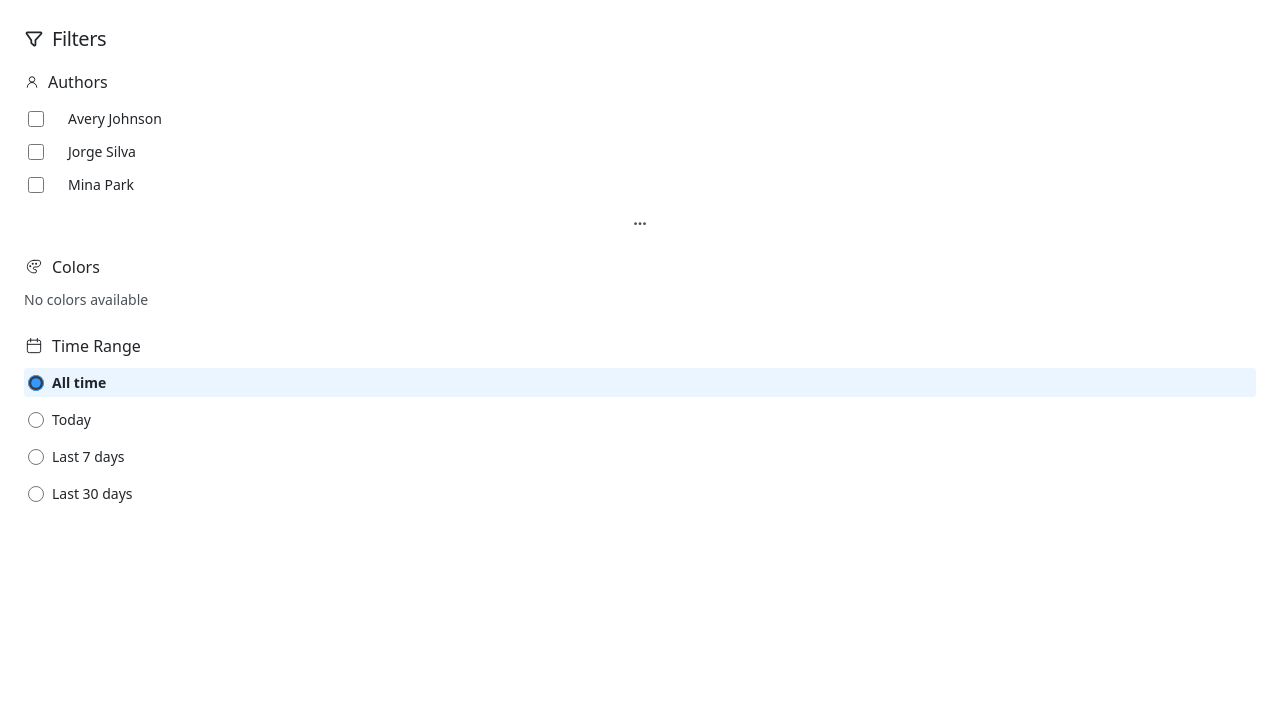
Test: FiltersSidebar › shows only the first three authors until the list is expanded
This screenshot has width=1280, height=720.
Expected: the checkbox labelled "Avery Johnson" is shown, [28,110,44,126]
Expected: the checkbox labelled "Jorge Silva" is shown, [28,144,44,160]
Click the button named "show all authors". click: (640, 219)
box: [632,207,648,231]
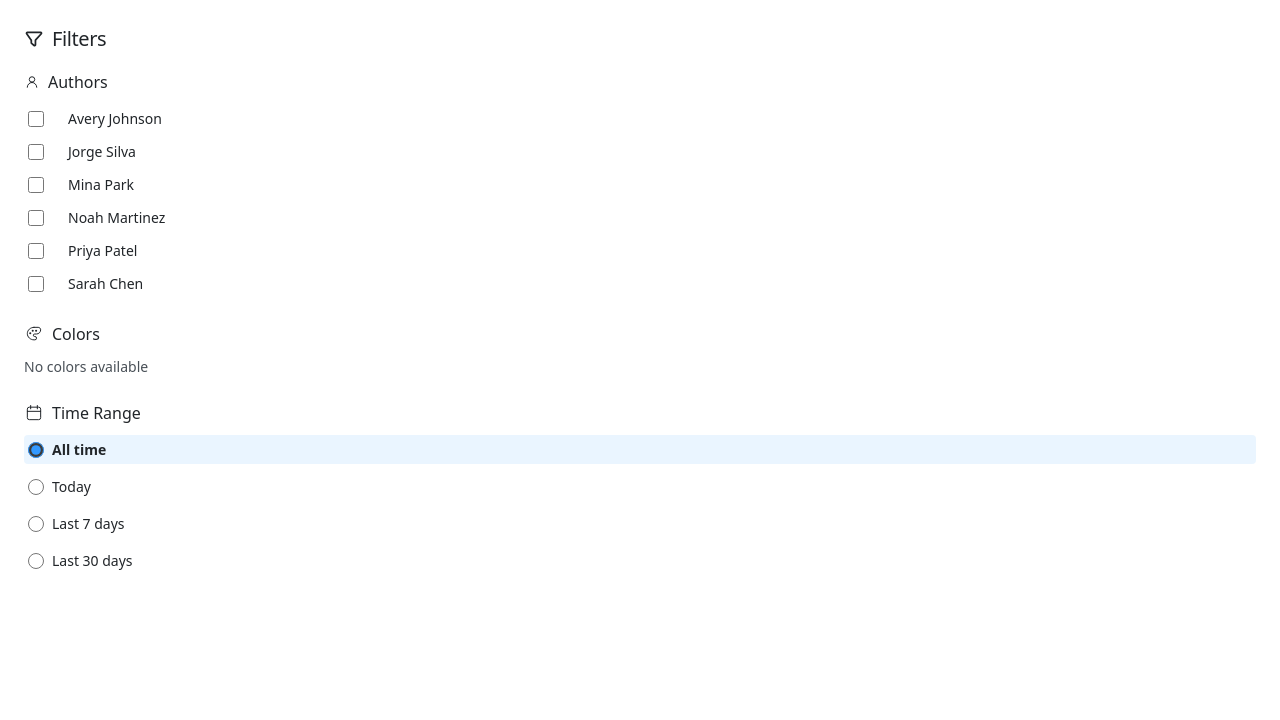
Expected: the checkbox labelled "Noah Martinez" is shown, [28,210,44,226]
Expected: the checkbox labelled "Priya Patel" is shown, [28,242,44,258]
Expected: the checkbox labelled "Sarah Chen" is shown, [28,276,44,292]
